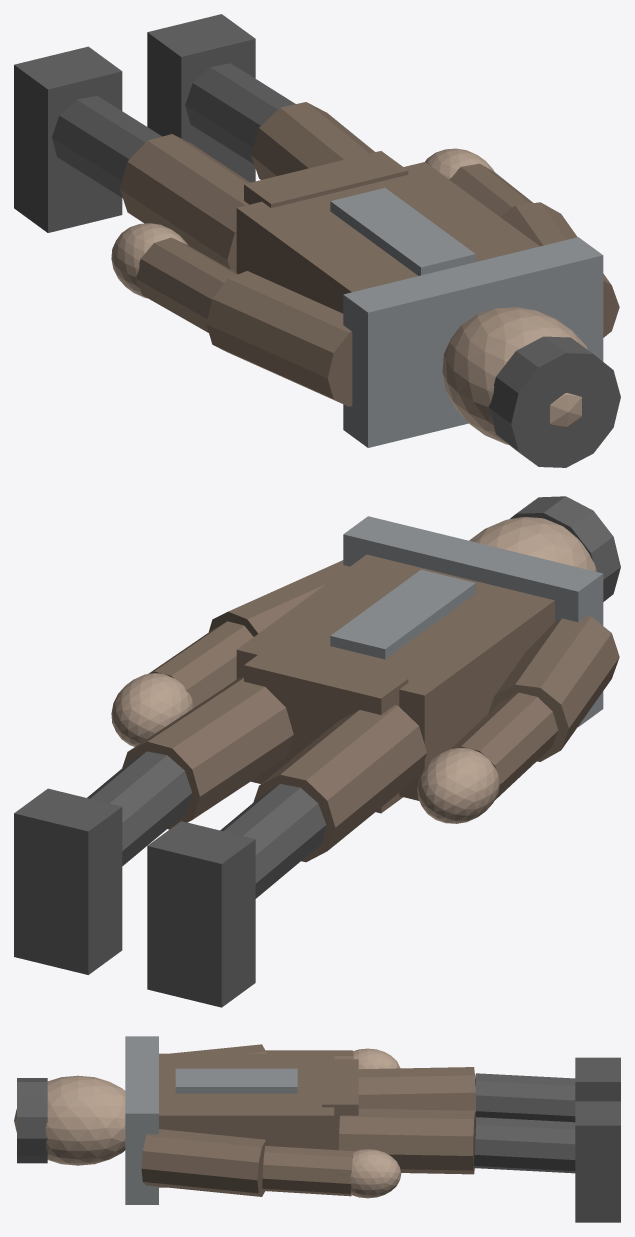
Rendered from SM_CharacterHero_Preview.glb.
3 renders of one model, top to bottom at view 1: azimuth 30°, elevation 25°; view 2: azimuth 150°, elevation 25°; view 3: azimuth 270°, elevation 25°, orthographic. The views are drawn at different scales.
Visible parts, largest first — view 1: Hero_segment_16, Hero_segment_00, Hero_segment_06, Hero_segment_07, Hero_segment_02, Hero_segment_04, Hero_segment_12, Hero_segment_01, Hero_segment_17, Hero_segment_05, Hero_segment_11, Hero_segment_10 (+6 smaller); view 2: Hero_segment_00, Hero_segment_06, Hero_segment_12, Hero_segment_04, Hero_segment_10, Hero_segment_16, Hero_segment_03, Hero_segment_07, Hero_segment_17, Hero_segment_05, Hero_segment_11, Hero_segment_08 (+6 smaller); view 3: Hero_segment_00, Hero_segment_10, Hero_segment_13, Hero_segment_01, Hero_segment_12, Hero_segment_11, Hero_segment_04, Hero_segment_16, Hero_segment_05, Hero_segment_14, Hero_segment_17, Hero_segment_02 (+6 smaller).
Boxes of the visible parts, x1=… form: Hero_segment_16: x1=343, y1=237, x2=603, y2=447; Hero_segment_00: x1=236, y1=162, x2=539, y2=313; Hero_segment_06: x1=14, y1=46, x2=122, y2=232; Hero_segment_07: x1=206, y1=271, x2=352, y2=406; Hero_segment_02: x1=488, y1=336, x2=620, y2=467; Hero_segment_04: x1=120, y1=134, x2=249, y2=272; Hero_segment_12: x1=147, y1=14, x2=255, y2=182; Hero_segment_01: x1=442, y1=307, x2=587, y2=444; Hero_segment_17: x1=330, y1=188, x2=475, y2=275; Hero_segment_05: x1=52, y1=96, x2=161, y2=197; Hero_segment_11: x1=185, y1=63, x2=295, y2=163; Hero_segment_10: x1=251, y1=102, x2=374, y2=179; Hero_segment_00: x1=236, y1=554, x2=554, y2=800; Hero_segment_06: x1=147, y1=821, x2=255, y2=1007; Hero_segment_12: x1=14, y1=788, x2=122, y2=974; Hero_segment_04: x1=253, y1=705, x2=426, y2=862; Hero_segment_10: x1=122, y1=676, x2=293, y2=829; Hero_segment_16: x1=343, y1=516, x2=603, y2=726; Hero_segment_03: x1=244, y1=645, x2=408, y2=813; Hero_segment_07: x1=488, y1=616, x2=619, y2=761; Hero_segment_17: x1=330, y1=569, x2=475, y2=659; Hero_segment_05: x1=220, y1=784, x2=326, y2=898; Hero_segment_11: x1=87, y1=751, x2=192, y2=865; Hero_segment_08: x1=451, y1=692, x2=558, y2=800; Hero_segment_00: x1=159, y1=1053, x2=334, y2=1187; Hero_segment_10: x1=339, y1=1108, x2=475, y2=1174; Hero_segment_13: x1=141, y1=1129, x2=269, y2=1196; Hero_segment_01: x1=14, y1=1075, x2=125, y2=1165; Hero_segment_12: x1=575, y1=1101, x2=620, y2=1222; Hero_segment_11: x1=473, y1=1117, x2=575, y2=1173; Hero_segment_04: x1=358, y1=1067, x2=475, y2=1117; Hero_segment_16: x1=125, y1=1036, x2=158, y2=1204; Hero_segment_05: x1=475, y1=1073, x2=575, y2=1122; Hero_segment_14: x1=262, y1=1146, x2=353, y2=1196; Hero_segment_17: x1=175, y1=1068, x2=297, y2=1093; Hero_segment_02: x1=17, y1=1078, x2=47, y2=1163.
Bounding box in the file's own units: 0.95 × 0.41 × 1.99.
